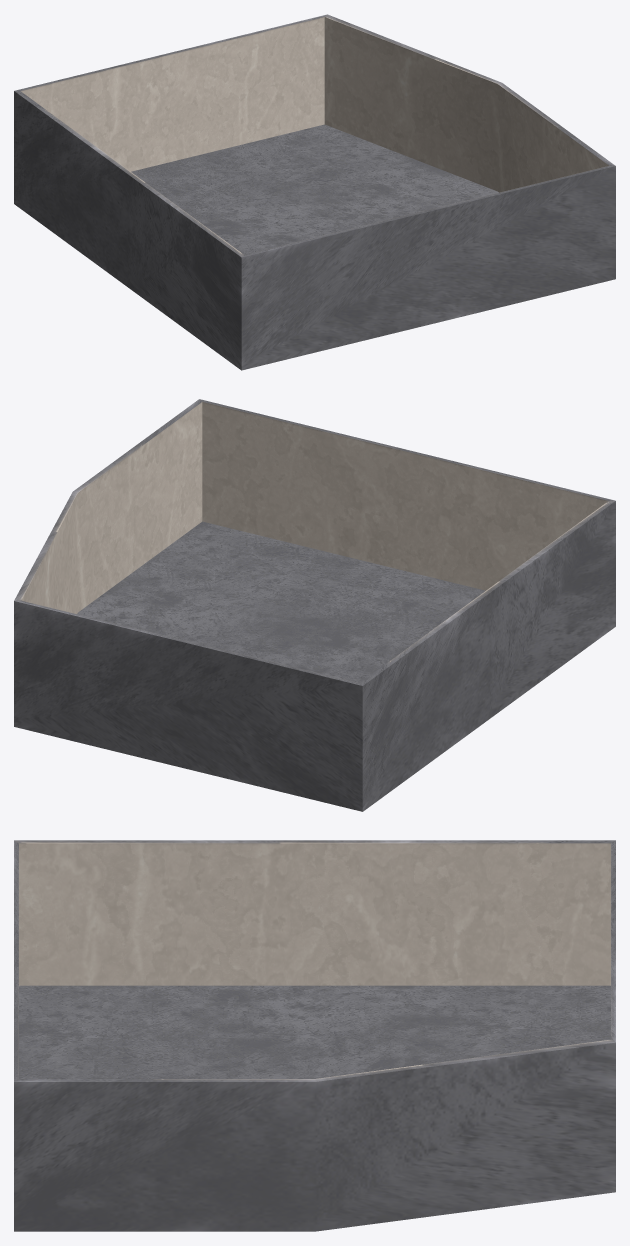
Rendered from roomBase_EMBED.fbx.
3 renders of one model, top to bottom at view 1: azimuth 30°, elevation 25°; view 2: azimuth 150°, elevation 25°; view 3: azimuth 270°, elevation 25°, orthographic. The views are drawn at different scales.
Visible parts, largest first — view 1: Room; view 2: Room; view 3: Room.
Part boxes in pixels (x1,y1,x2,y2): Room: (14,14,615,370); Room: (14,399,615,811); Room: (14,840,615,1231).
Bounding box in the file's own units: 13877 × 4006 × 14605.
Materials: 1 (1 with a texture image).
